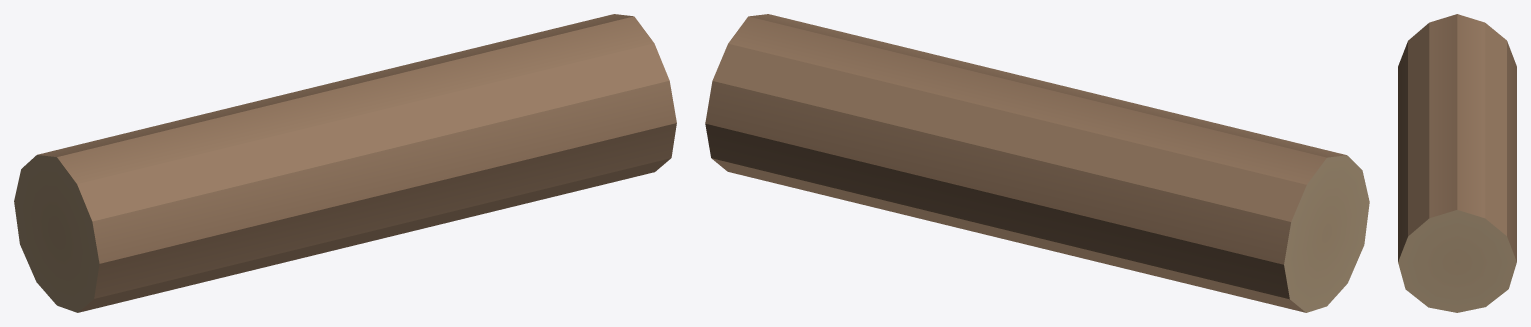
Rendered from wood_log.gltf.
3 renders of one model, left to right at view 1: azimuth 30°, elevation 25°; view 2: azimuth 150°, elevation 25°; view 3: azimuth 270°, elevation 25°, orthographic. The views are drawn at different scales.
Bounding box in the file's own units: 4 × 0.9827 × 1.03.
